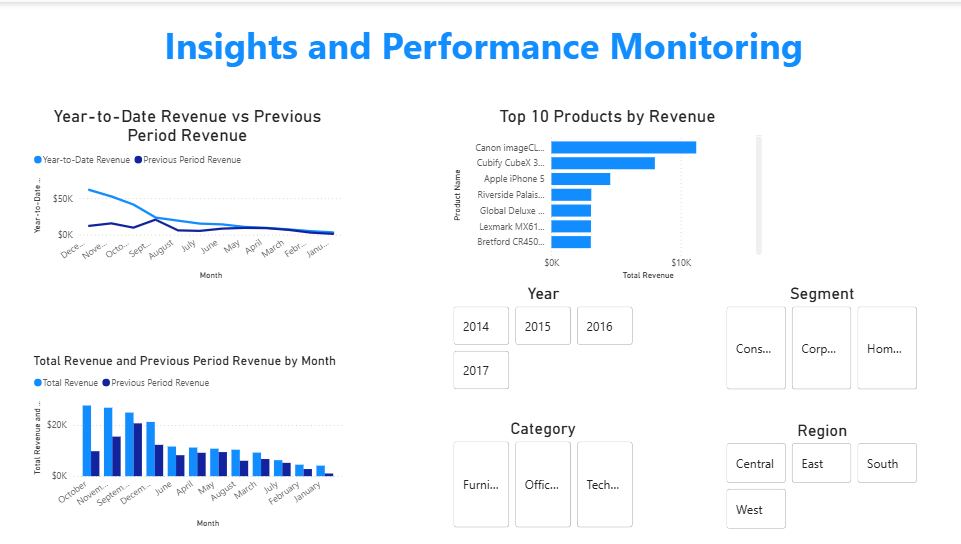

What the dashboard file says about the page in this screenshot:
{"tool":"powerbi","page":{"name":"Page 3","canvas":[1280,720],"ordinal":2},"visuals":[{"type":"textbox","box":[9.4,18.9,1269.9,96.4],"z":0},{"type":"lineChart","title":"Year-to-Date Revenue vs Previous Period Revenue","fields":{"Category":["DimDate.Month"],"Y":["Superstore Dataset.Year-to-Date Revenue","Superstore Dataset.Previous Period Revenue"]},"box":[41.6,138,419.5,236.2],"z":1},{"type":"clusteredBarChart","title":"Top 10 Products by Revenue","fields":{"Category":["DimProduct.Product Name"],"Y":["Superstore Dataset.Total Revenue"]},"box":[599.1,138,419.5,236.2],"z":2},{"type":"clusteredColumnChart","fields":{"Category":["DimDate.Month"],"Y":["Superstore Dataset.Total Revenue","Superstore Dataset.Previous Period Revenue"]},"box":[41.6,466.8,419.5,236.2],"z":3},{"type":"advancedSlicerVisual","fields":{"Values":["DimDate.Year"]},"box":[599.5,374.4,249,145.4],"z":4},{"type":"advancedSlicerVisual","fields":{"Values":["DimCustomer.Segment"]},"box":[962,374.4,264.9,145.4],"z":5},{"type":"advancedSlicerVisual","fields":{"Values":["Superstore Dataset.Region"]},"box":[962,555.7,264.9,149.4],"z":6},{"type":"advancedSlicerVisual","fields":{"Values":["DimProduct.Category"]},"box":[599.5,553.7,249,149.4],"z":7}]}

Visuals, with their boxes in screenshot pixels (x1, y1, x2, y2), scaled from the page's 1280x720 canvas onto the 961x544 screenshot:
textbox: <bbox>7, 14, 960, 87</bbox>
"Year-to-Date Revenue vs Previous Period Revenue" lineChart: <bbox>31, 104, 346, 283</bbox>
"Top 10 Products by Revenue" clusteredBarChart: <bbox>450, 104, 765, 283</bbox>
clusteredColumnChart - DimDate.Month x Superstore Dataset.Total Revenue: <bbox>31, 353, 346, 531</bbox>
advancedSlicerVisual - DimDate.Year: <bbox>450, 283, 637, 393</bbox>
advancedSlicerVisual - DimCustomer.Segment: <bbox>722, 283, 921, 393</bbox>
advancedSlicerVisual - Superstore Dataset.Region: <bbox>722, 420, 921, 533</bbox>
advancedSlicerVisual - DimProduct.Category: <bbox>450, 418, 637, 531</bbox>
